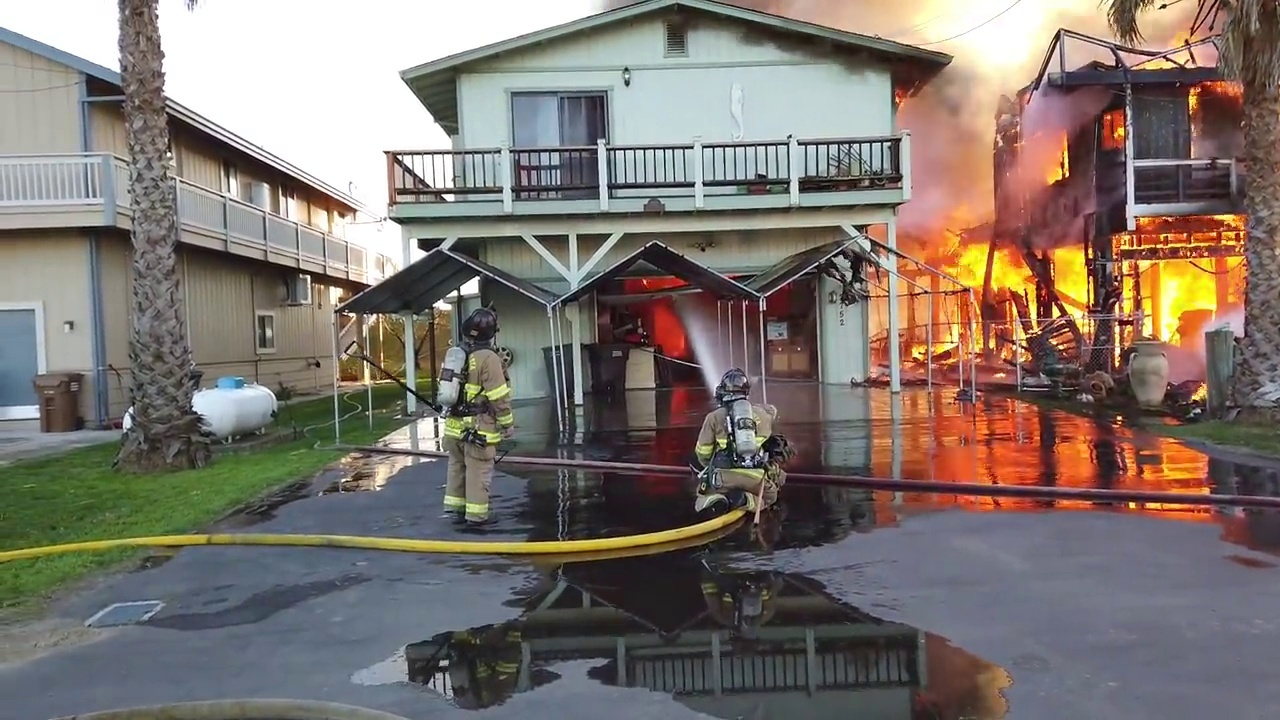fire: (871, 215, 1260, 362), (1134, 36, 1206, 72), (1182, 73, 1233, 115), (651, 305, 687, 360), (1037, 134, 1071, 184), (1100, 104, 1129, 146), (622, 279, 684, 288)
smoke: (896, 1, 1071, 240), (1072, 1, 1226, 42), (780, 1, 897, 26)
